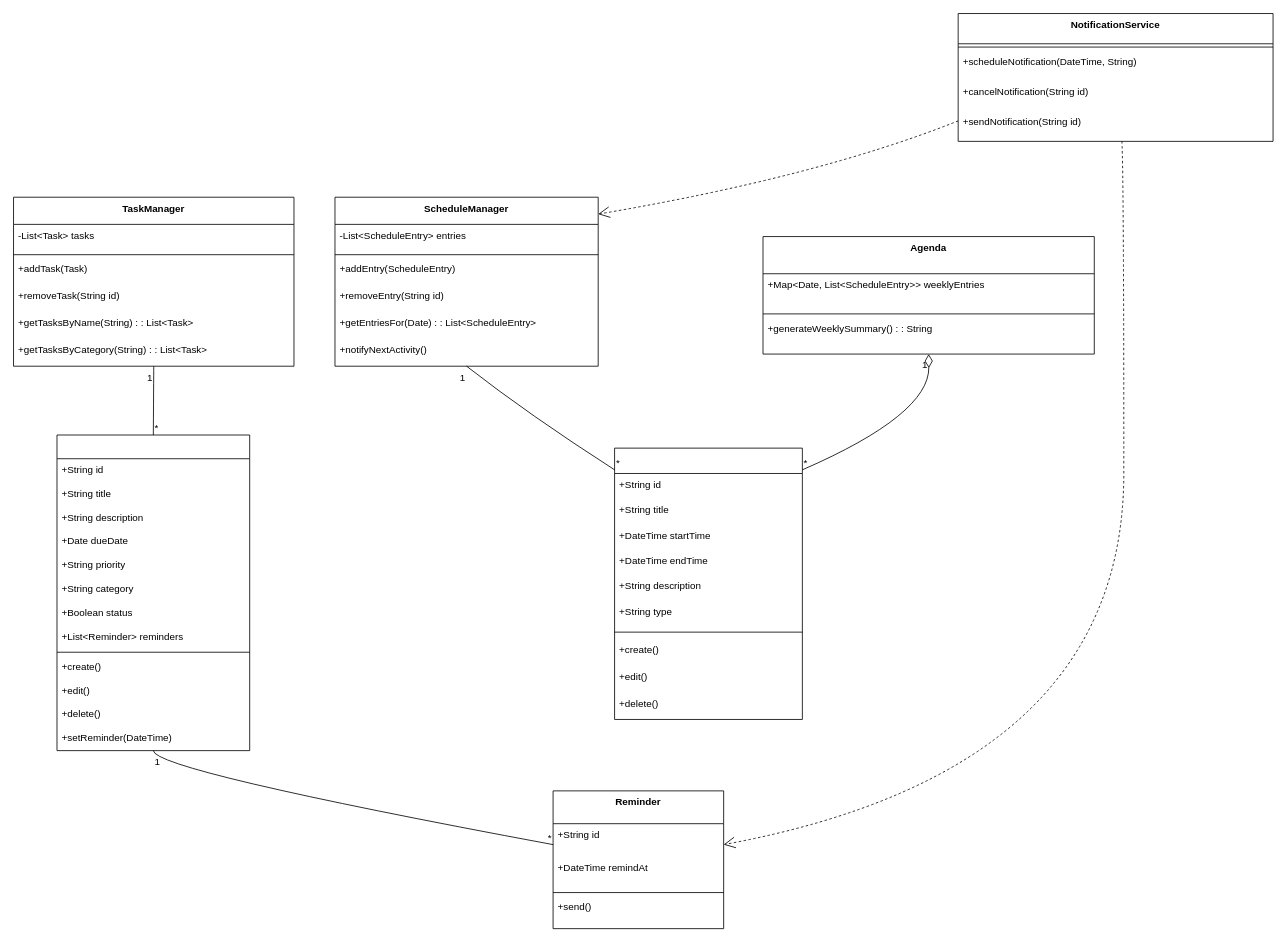
This 1287x942 diagram has some shape labels left out. Here are the shapes that lost their labels. From the top down, the box of each, then its label:
(56, 434, 250, 751): Task
(614, 447, 802, 719): ScheduleEntry
